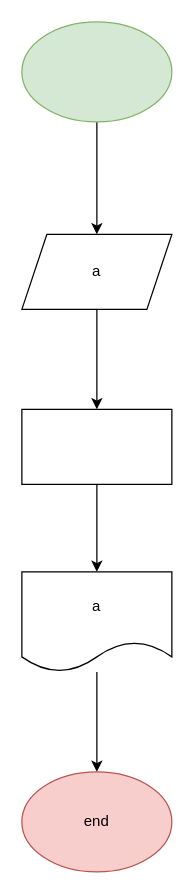
Some shapes in this 194 by 894 pixel diagram are drawn without their labels. The box of each missing label's shape, as (x1, y1, x2, y2) in pixels:
( a * 10 ) + 30003: (21, 408, 172, 484)
start: (21, 21, 172, 122)
